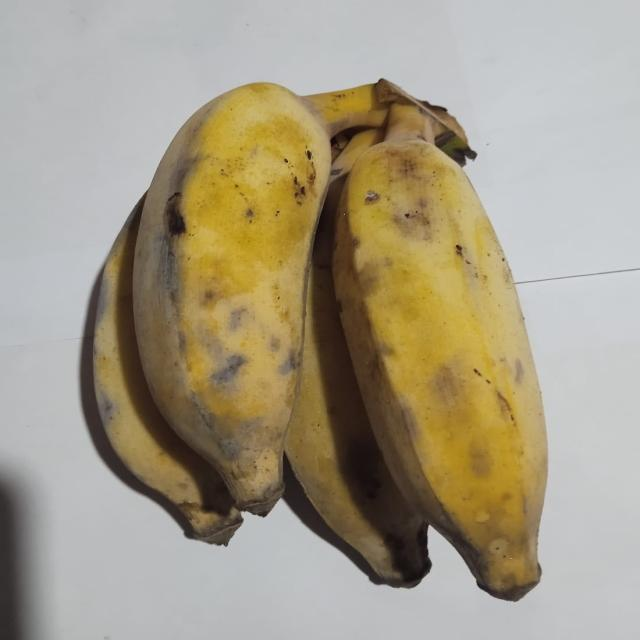banana: (134, 83, 388, 514), (333, 105, 546, 600), (286, 129, 430, 586), (94, 197, 242, 544)
